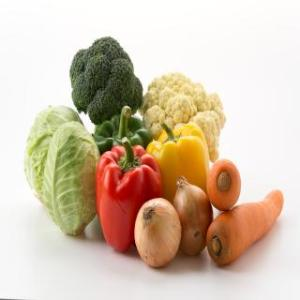bell_pepper: (98, 144, 160, 260), (148, 123, 214, 190)
cabbage: (24, 104, 100, 241)
carrot: (206, 186, 284, 266), (208, 157, 242, 209)
onion: (134, 196, 182, 268), (172, 178, 212, 258)
